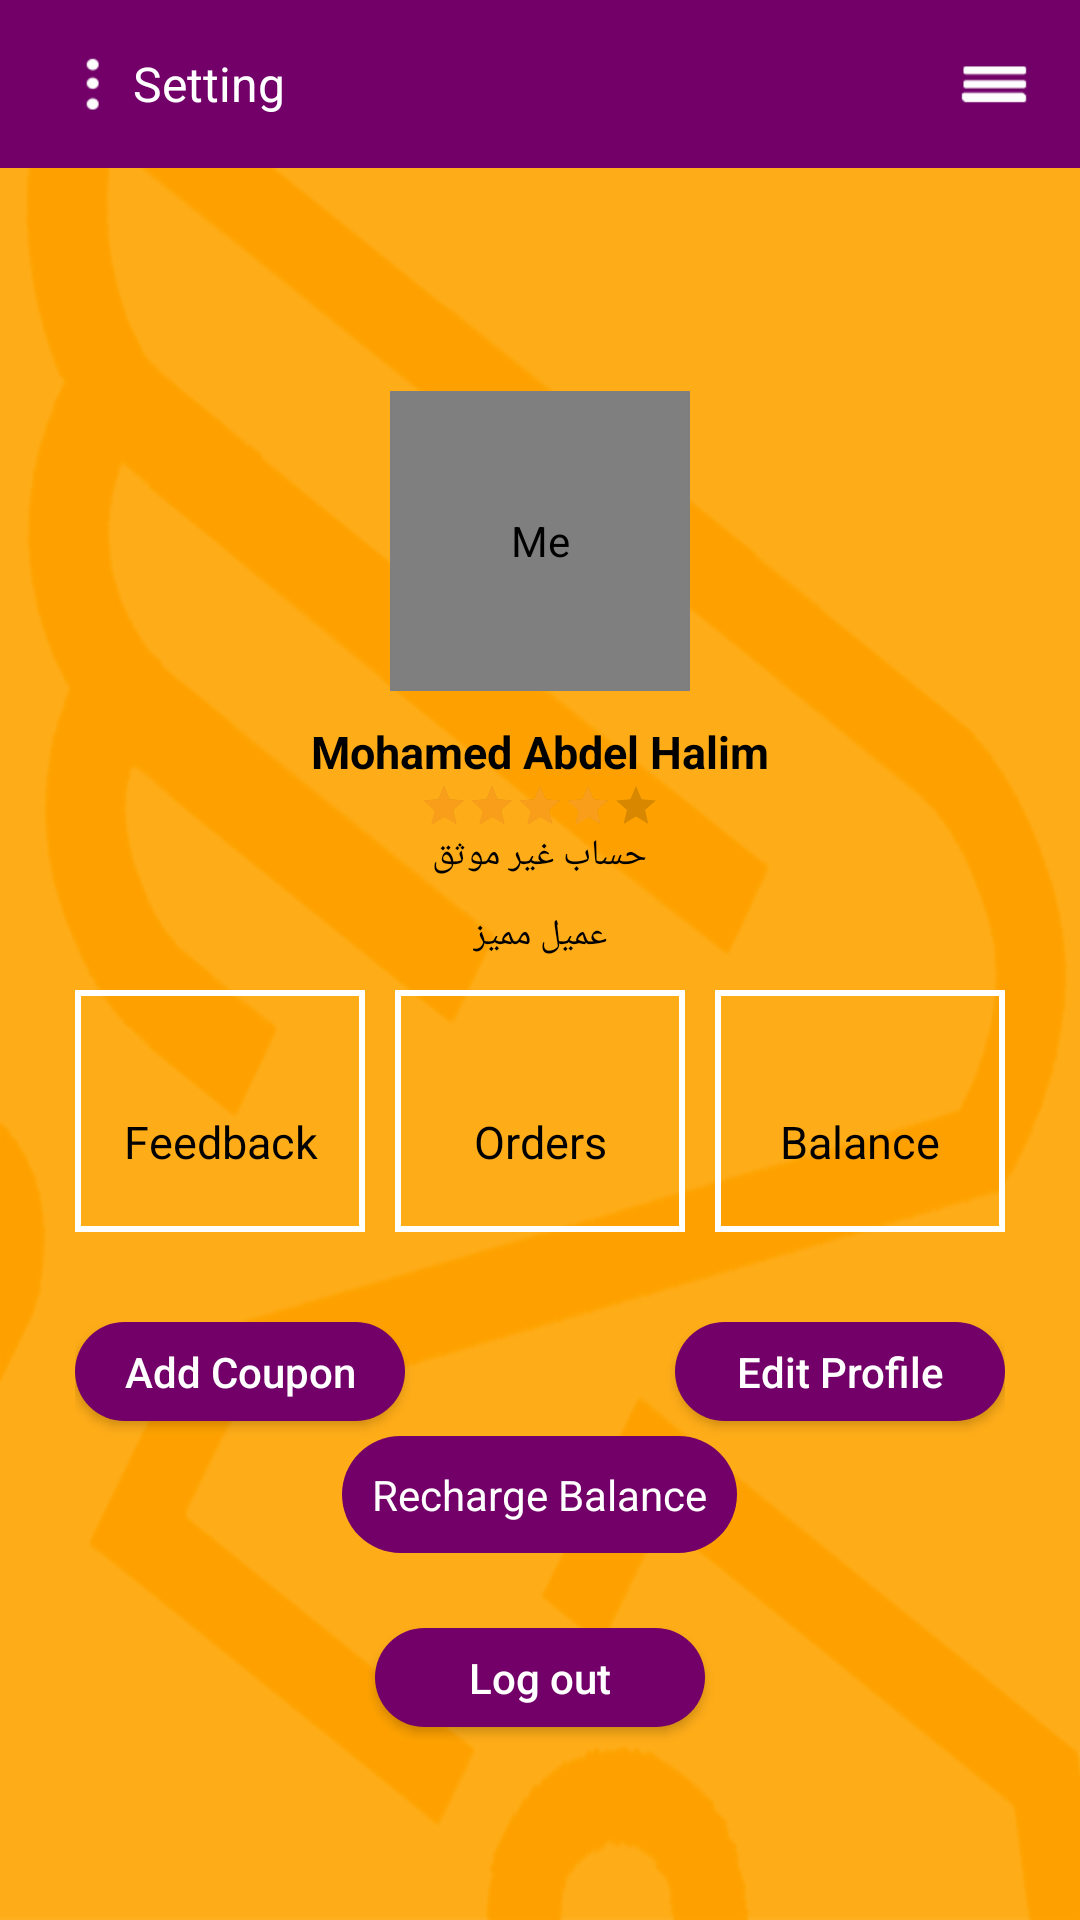

Named icons in this screenshot (1080x1920) and their bounding boxes, (x1, y1, x2, y2):
menu: (961, 66, 1027, 103)
